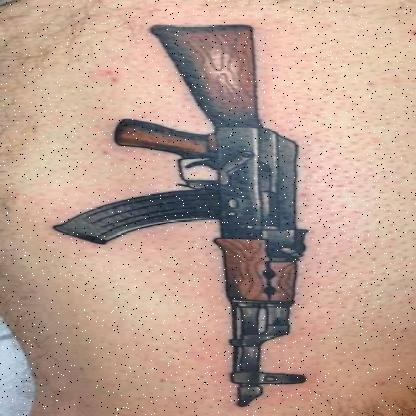rifle: (43, 20, 314, 410)
